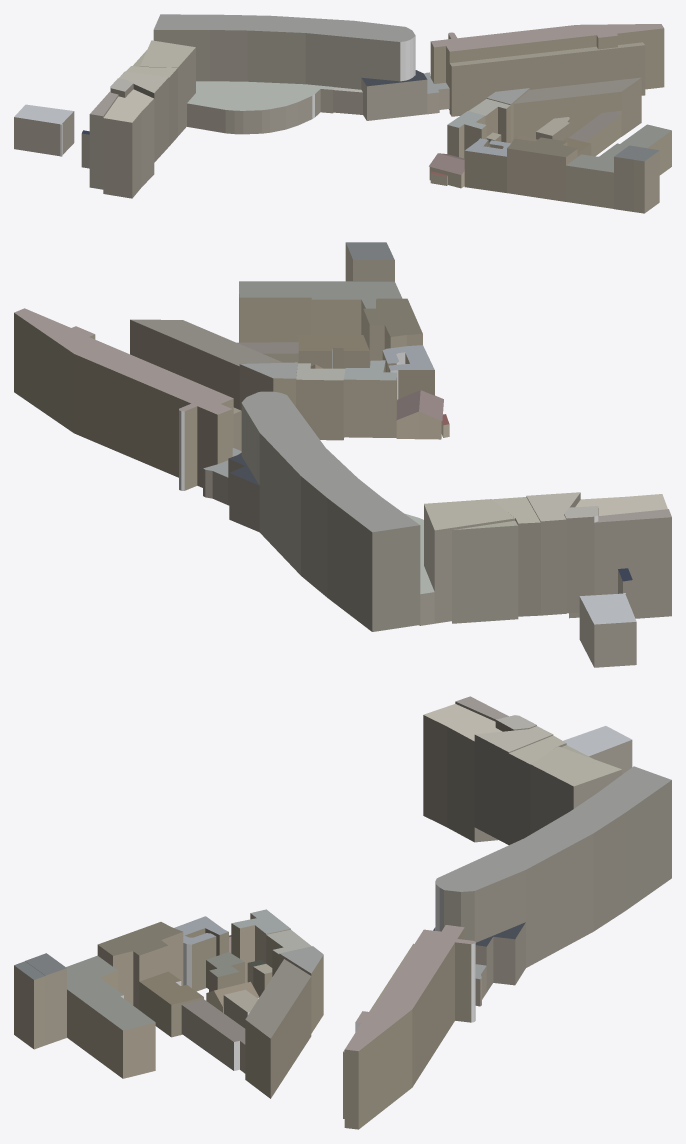
3 views of the same model, one above another, from view 1: azimuth 30°, elevation 25°; view 2: azimuth 150°, elevation 25°; view 3: azimuth 270°, elevation 25° (orthographic). The views are drawn at different scales.
Visible parts, largest first — view 1: tuile; view 2: tuile; view 3: tuile.
Boxes of the visible parts, left/top/right/bottom form: tuile: left=14, top=14, right=671, bottom=213; tuile: left=14, top=242, right=671, bottom=667; tuile: left=14, top=696, right=671, bottom=1129.
Size of the model in its own units: 302 by 44.81 by 233.
